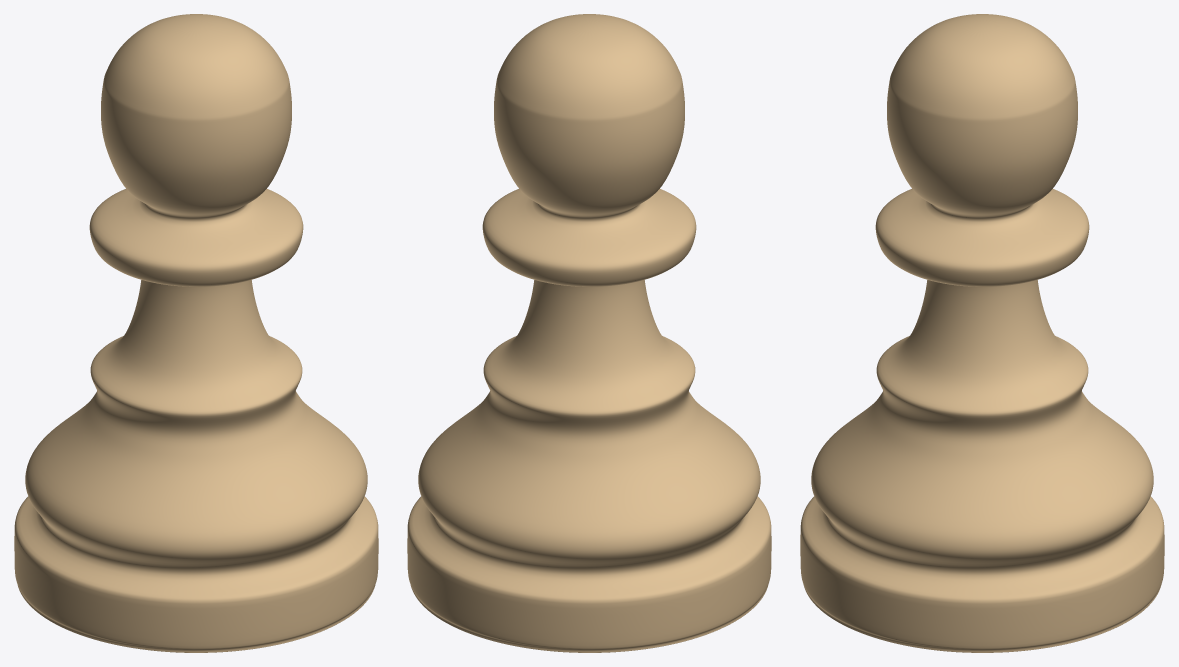
Rendered from Peon.fbx.
3 views of the same model, side by side, from view 1: azimuth 30°, elevation 25°; view 2: azimuth 150°, elevation 25°; view 3: azimuth 270°, elevation 25° (orthographic).
Parts seen in each view (by area): view 1: Peón.005; view 2: Peón.005; view 3: Peón.005.
Part boxes in pixels (x1,y1,x2,y2): Peón.005: (14, 14, 378, 652); Peón.005: (407, 14, 771, 652); Peón.005: (800, 14, 1164, 652).
Size of the model in its own units: 62.66 by 105 by 62.66.
